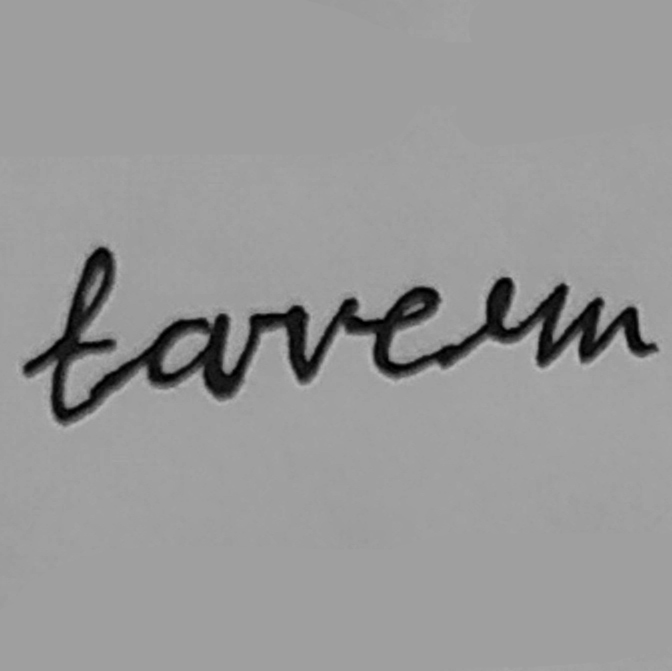a: (139, 308, 236, 409)
e: (371, 282, 453, 383)
n: (574, 290, 666, 366)
r: (478, 272, 573, 373)
t: (39, 239, 126, 428)
v: (272, 287, 363, 390)
